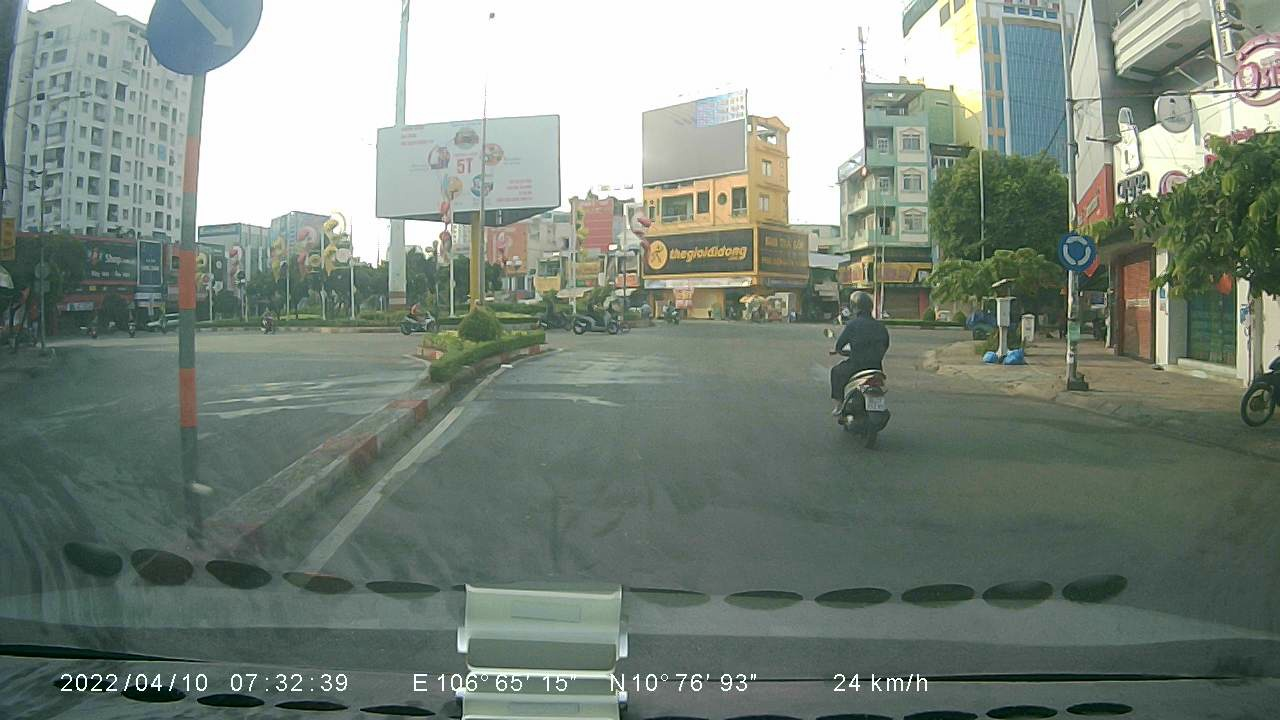Bien khac: (1055, 227, 1098, 273)
Huong di phai re phai: (143, 0, 262, 75)
